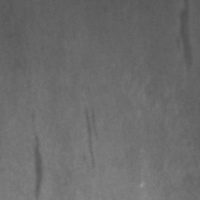inclusion: (24, 124, 52, 199), (171, 0, 199, 75), (77, 102, 104, 171)
